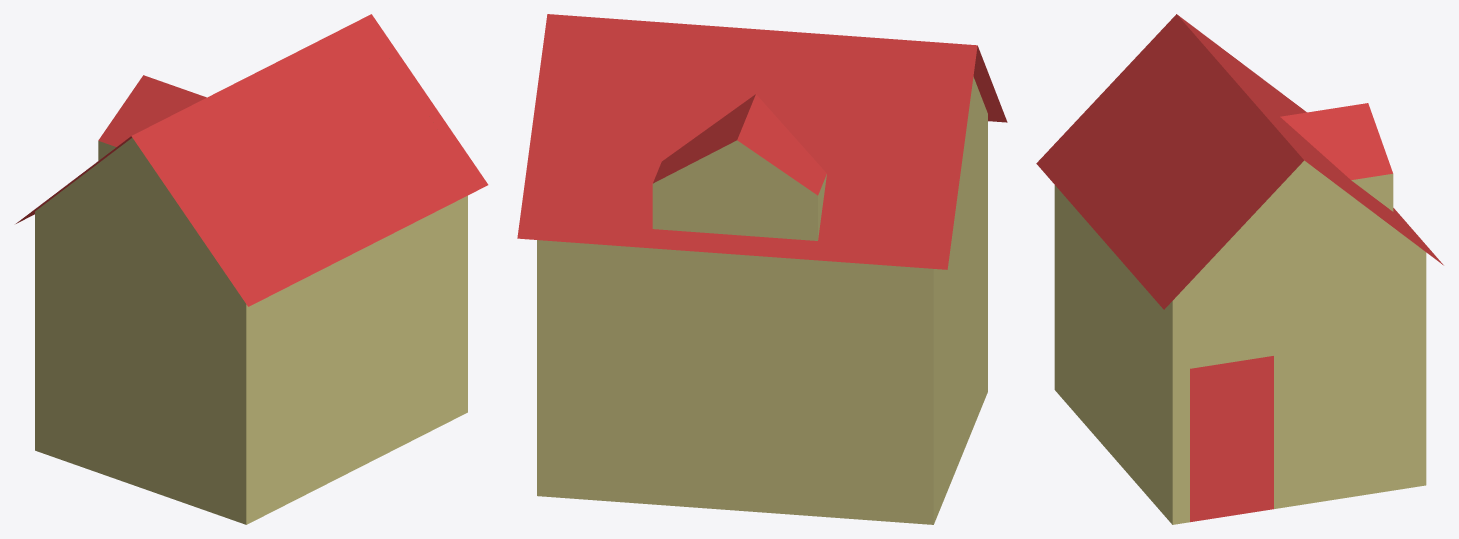
3 views of the same model, side by side, from view 1: azimuth 30°, elevation 25°; view 2: azimuth 150°, elevation 25°; view 3: azimuth 270°, elevation 25° (orthographic). The views are drawn at different scales.
Bounding box in the file's own units: 15.69 × 14.24 × 13.48.
